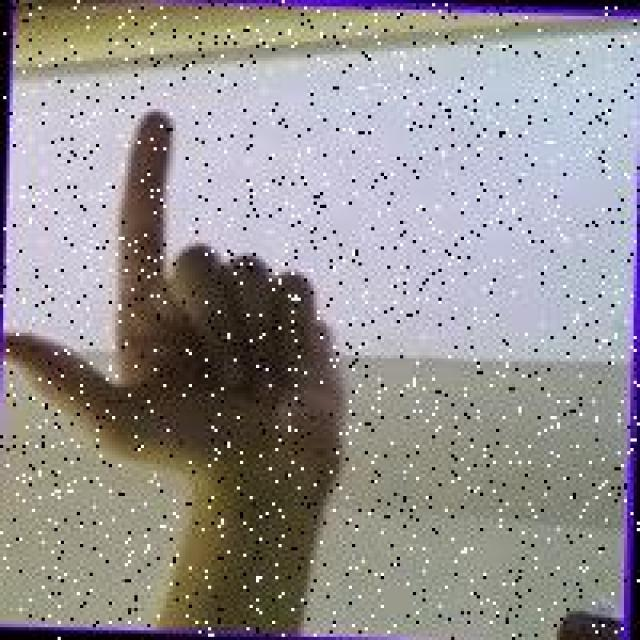L: (5, 94, 360, 530)
